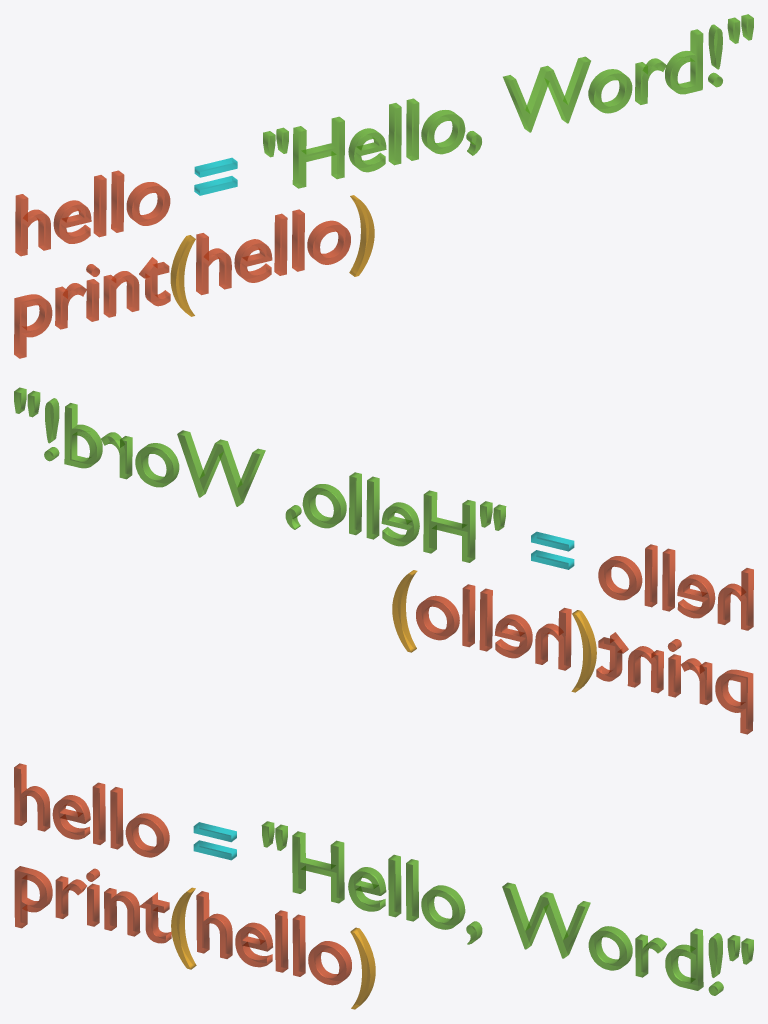
The model's file is HelloWorld-transformed.glb.
3 renders of one model, top to bottom at view 1: azimuth 30°, elevation 25°; view 2: azimuth 150°, elevation 25°; view 3: azimuth 330°, elevation 25°, orthographic.
Visible parts, largest first — view 1: Object_4, Object_5, Object_3, Object_2; view 2: Object_4, Object_5, Object_3, Object_2; view 3: Object_4, Object_5, Object_3, Object_2.
Part boxes in pixels (box(x1,y1,x2,y2)): Object_4: box(14, 170, 350, 358); Object_5: box(263, 14, 753, 188); Object_3: box(170, 195, 374, 316); Object_2: box(194, 157, 237, 195); Object_4: box(416, 544, 753, 734); Object_5: box(14, 387, 506, 562); Object_3: box(392, 570, 596, 692); Object_2: box(531, 531, 574, 569); Object_4: box(14, 763, 351, 985); Object_5: box(261, 821, 753, 995); Object_3: box(171, 887, 375, 1009); Object_2: box(193, 822, 236, 860).
Bounding box in the file's own units: 9.18 × 1.95 × 0.1483.
